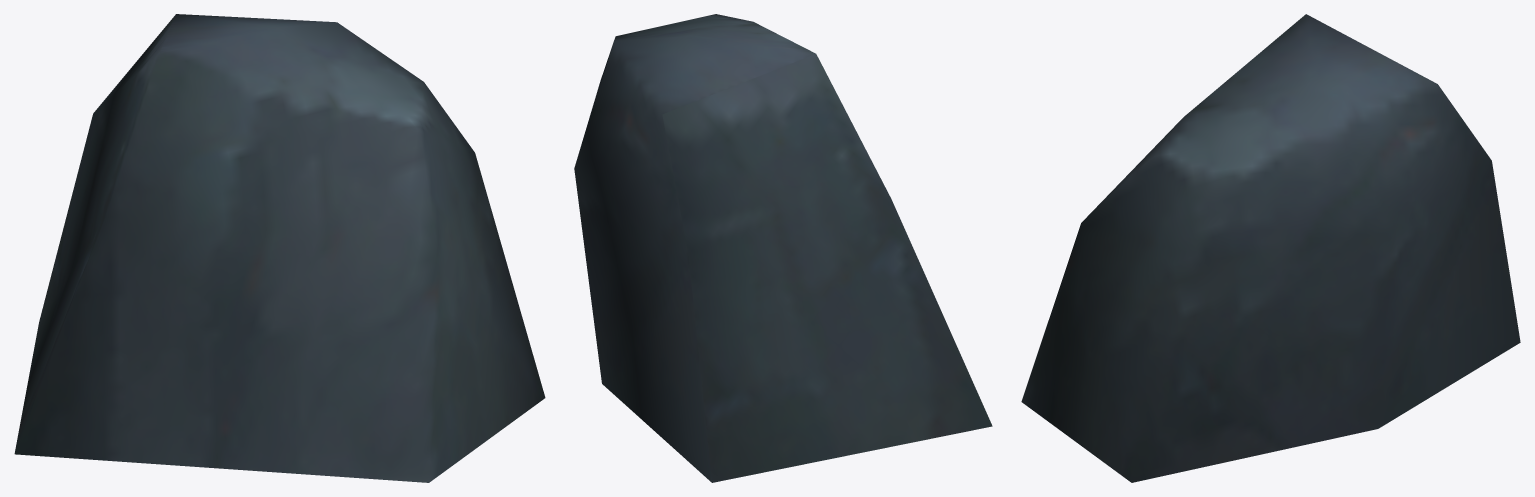
The model's file is Area_08_17.fbx.
3 views of the same model, side by side, from view 1: azimuth 30°, elevation 25°; view 2: azimuth 150°, elevation 25°; view 3: azimuth 270°, elevation 25° (orthographic). The views are drawn at different scales.
Parts seen in each view (by area): view 1: Area_08_17; view 2: Area_08_17; view 3: Area_08_17.
Part boxes in pixels (x1=…): Area_08_17: x1=14, y1=14, x2=545, y2=482; Area_08_17: x1=574, y1=14, x2=992, y2=482; Area_08_17: x1=1021, y1=14, x2=1520, y2=482.
Bounding box in the file's own units: 585 × 428 × 583.
